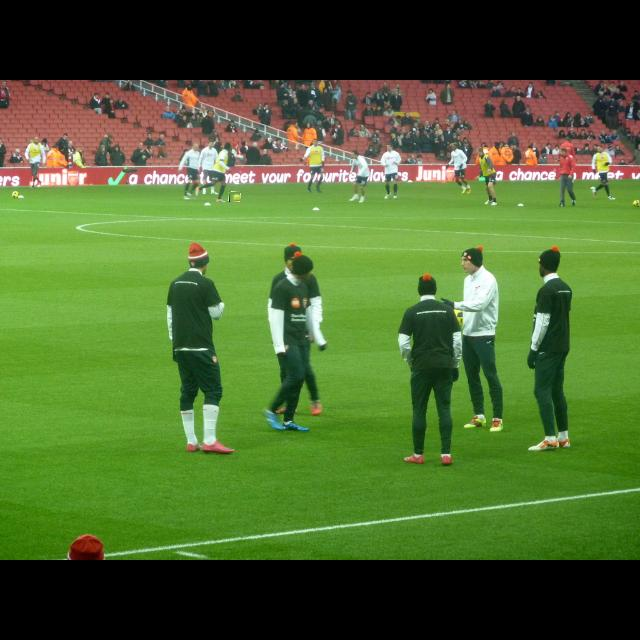Football: (229, 192, 241, 202)
